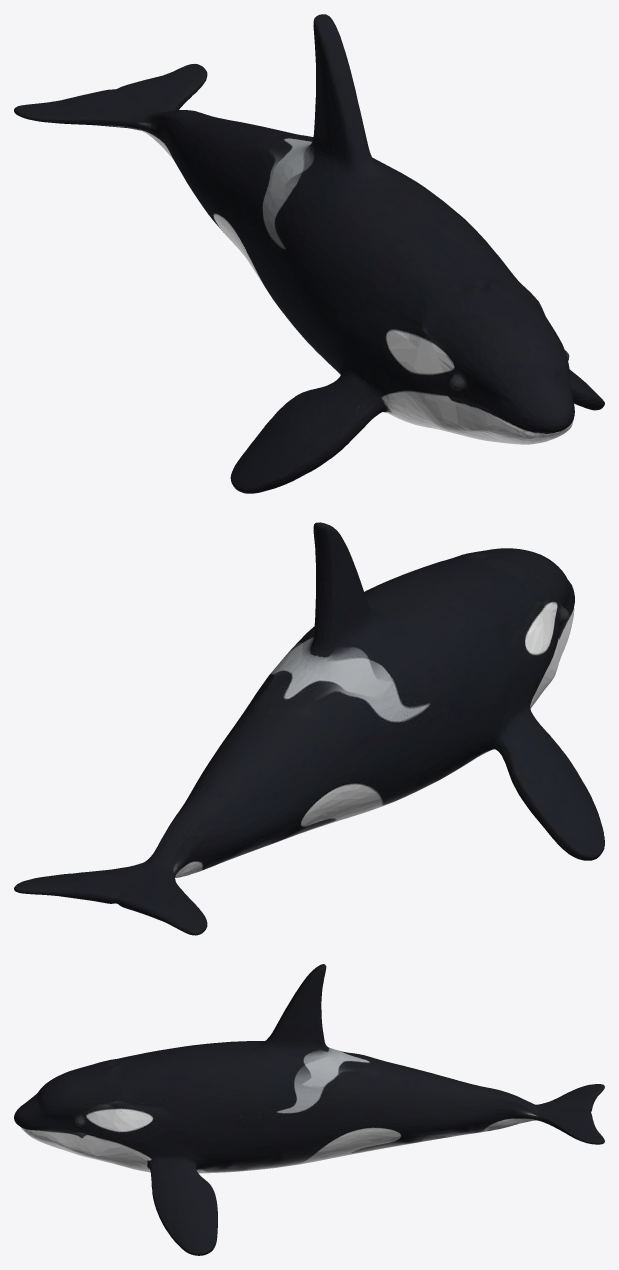
Rendered from meshy-orca.glb.
3 views of the same model, one above another, from view 1: azimuth 30°, elevation 25°; view 2: azimuth 150°, elevation 25°; view 3: azimuth 270°, elevation 25° (orthographic). The views are drawn at different scales.
Bounding box in the file's own units: 0.8756 × 0.8318 × 1.9.
1 material, 1 textured.
